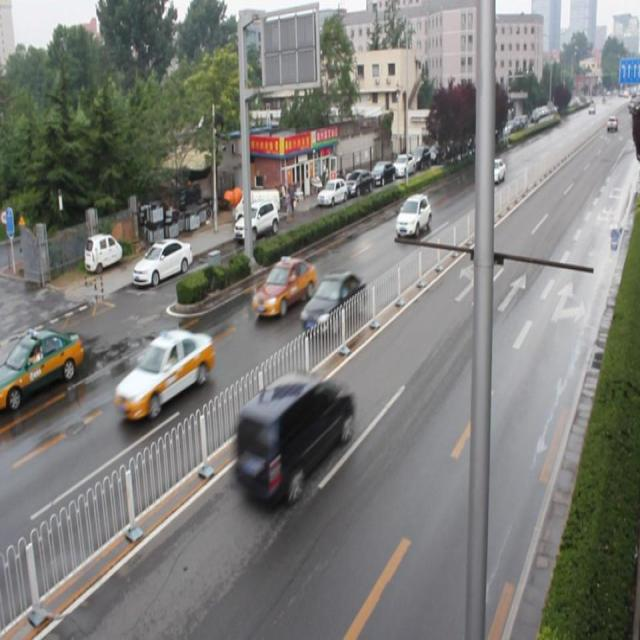car: (114, 329, 212, 422), (300, 270, 365, 337), (253, 252, 314, 319), (395, 194, 430, 238)
truck: (234, 375, 352, 512)
